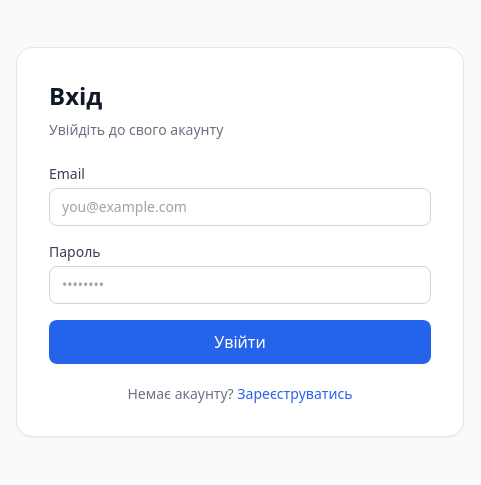
LoginPage › shows server error message on login failure
The width and height of the screenshot is (481, 485).
Type "user@test.com" into the field with placeholder "you@example.com" at point(240, 207), box [49,188,431,226]
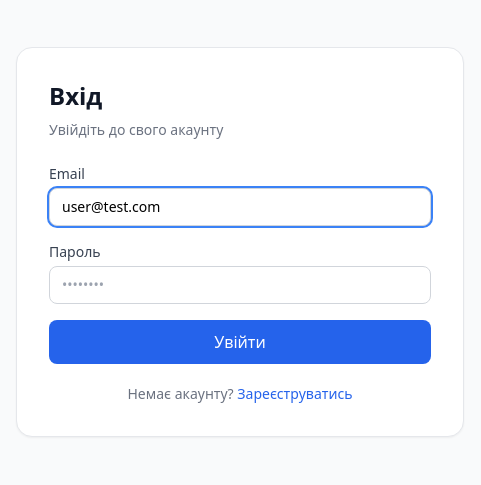
Type "wrongpassword" into the password field with placeholder "••••••••" at point(240, 285), box [49,266,431,304]
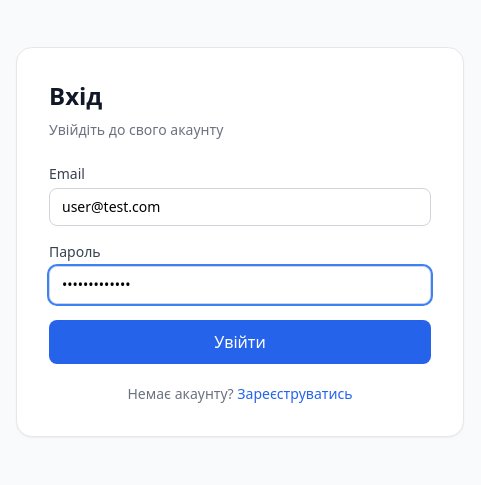
Click the button "Увійти" at point(240, 342), box [49,320,431,364]
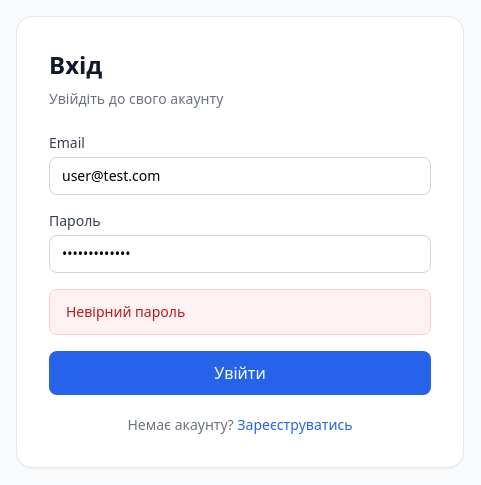
Now the text "Невірний пароль" is shown, box [49,289,431,335]
